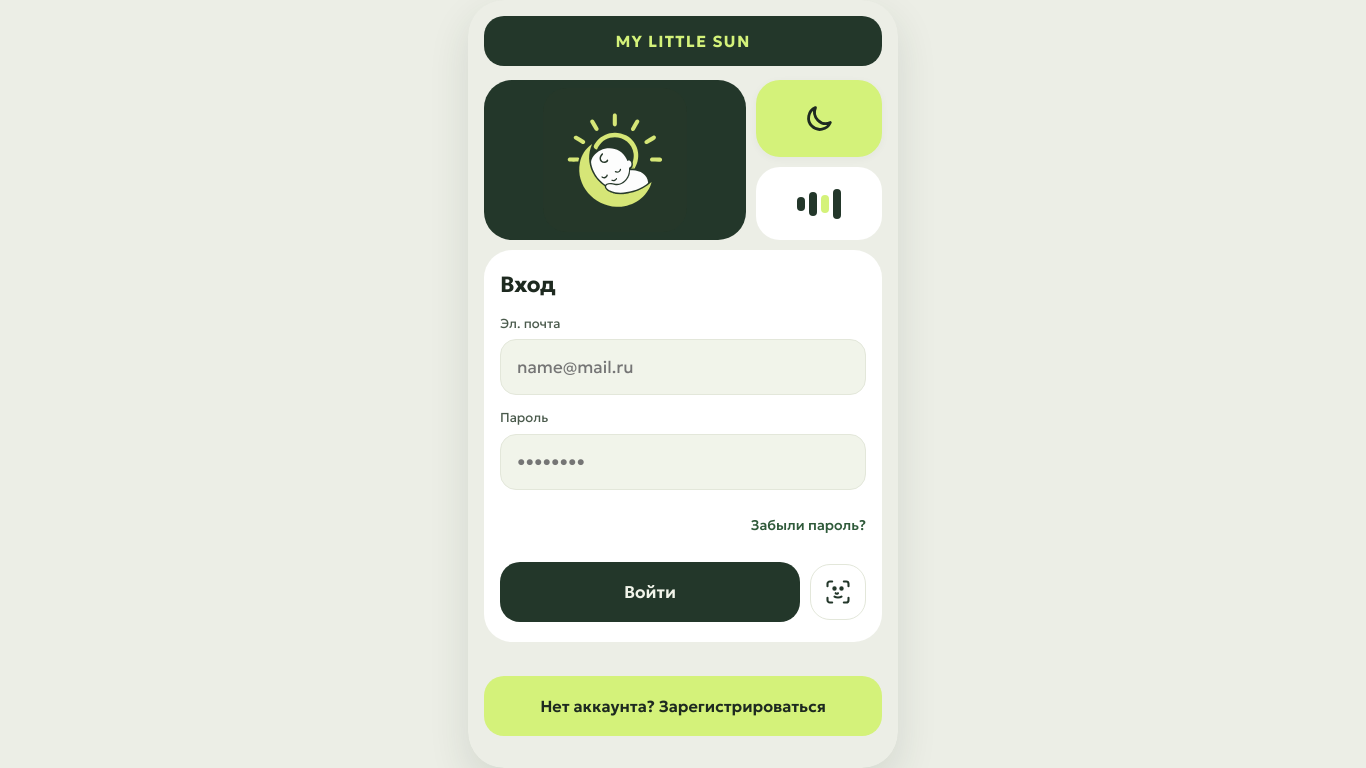
Test case: LoginPage Component › successfully resets password via modal and displays success banner
Click the link with test id "forgot-password-btn" at (808, 525), box [751, 516, 866, 534]
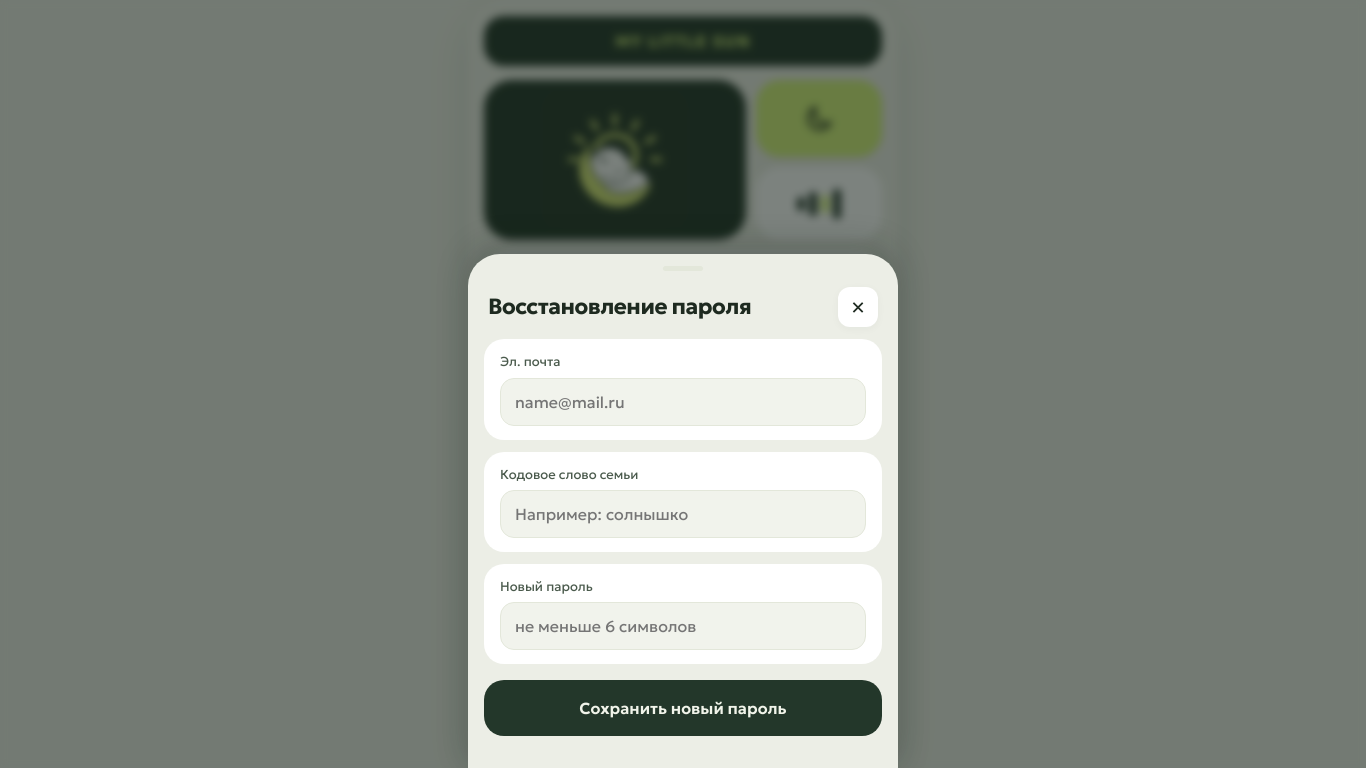
Type "mama@mail.ru" into the field with test id "reset-password-email" at (683, 402), box [500, 378, 866, 426]
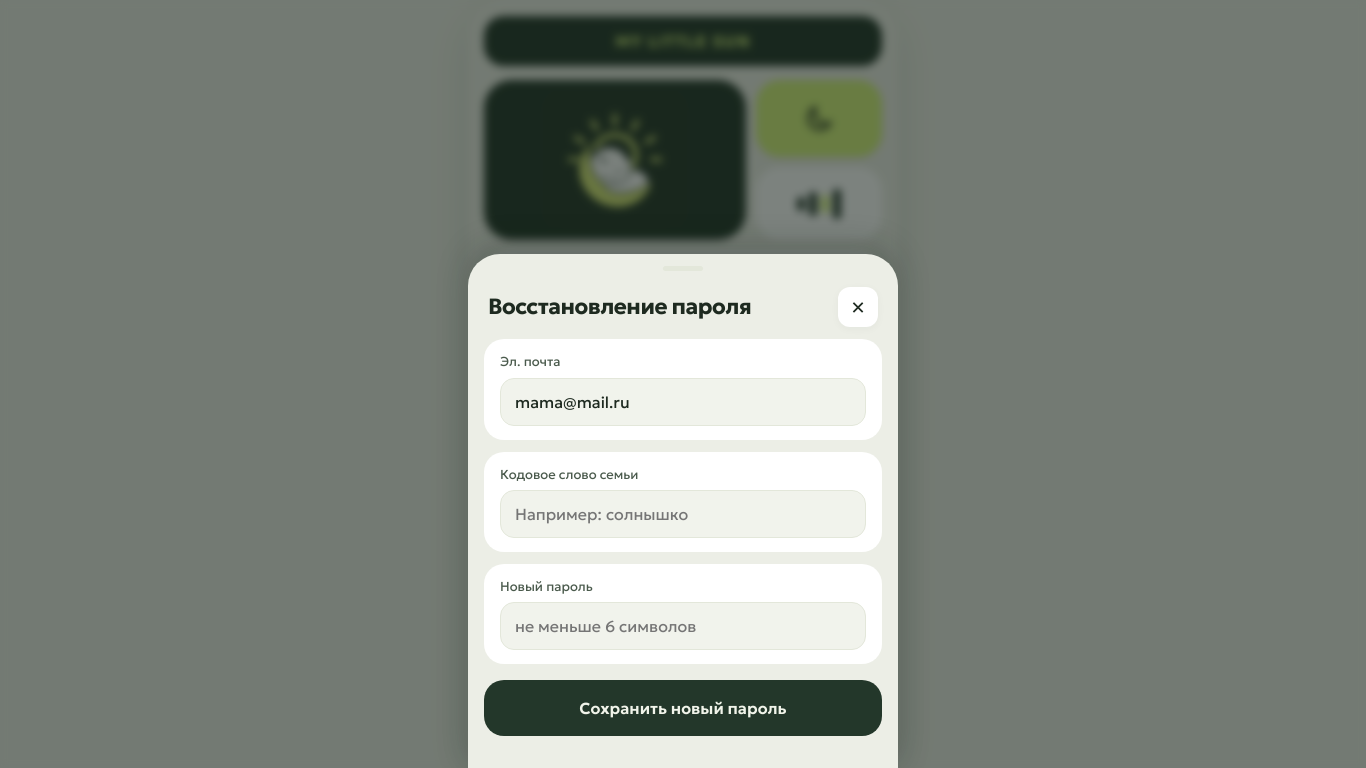
Type "солнышко" into the field with test id "reset-password-code" at (683, 514), box [500, 490, 866, 538]
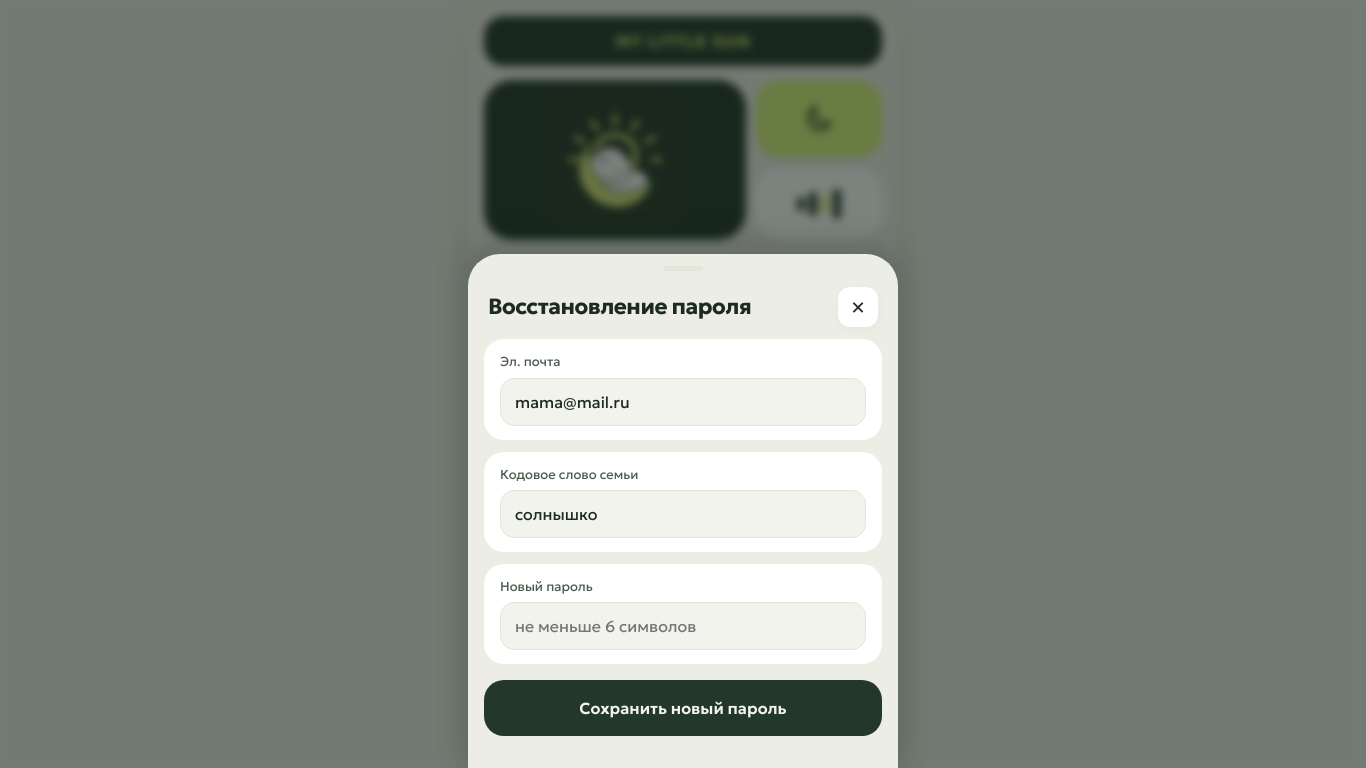
Type "newpassword123" into the password field with test id "reset-password-new-password" at (683, 626), box [500, 602, 866, 650]
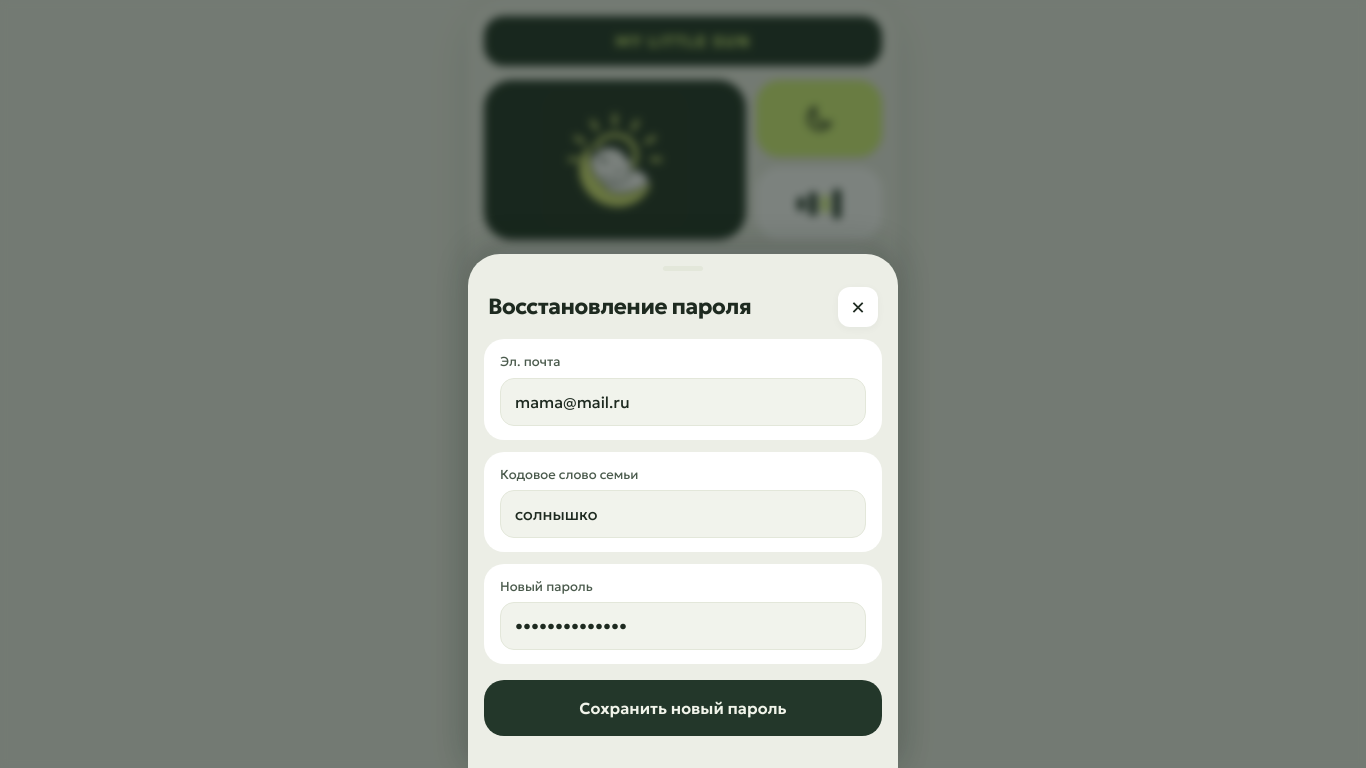
Click the button with test id "reset-password-submit-btn" at (683, 708), box [484, 680, 882, 736]
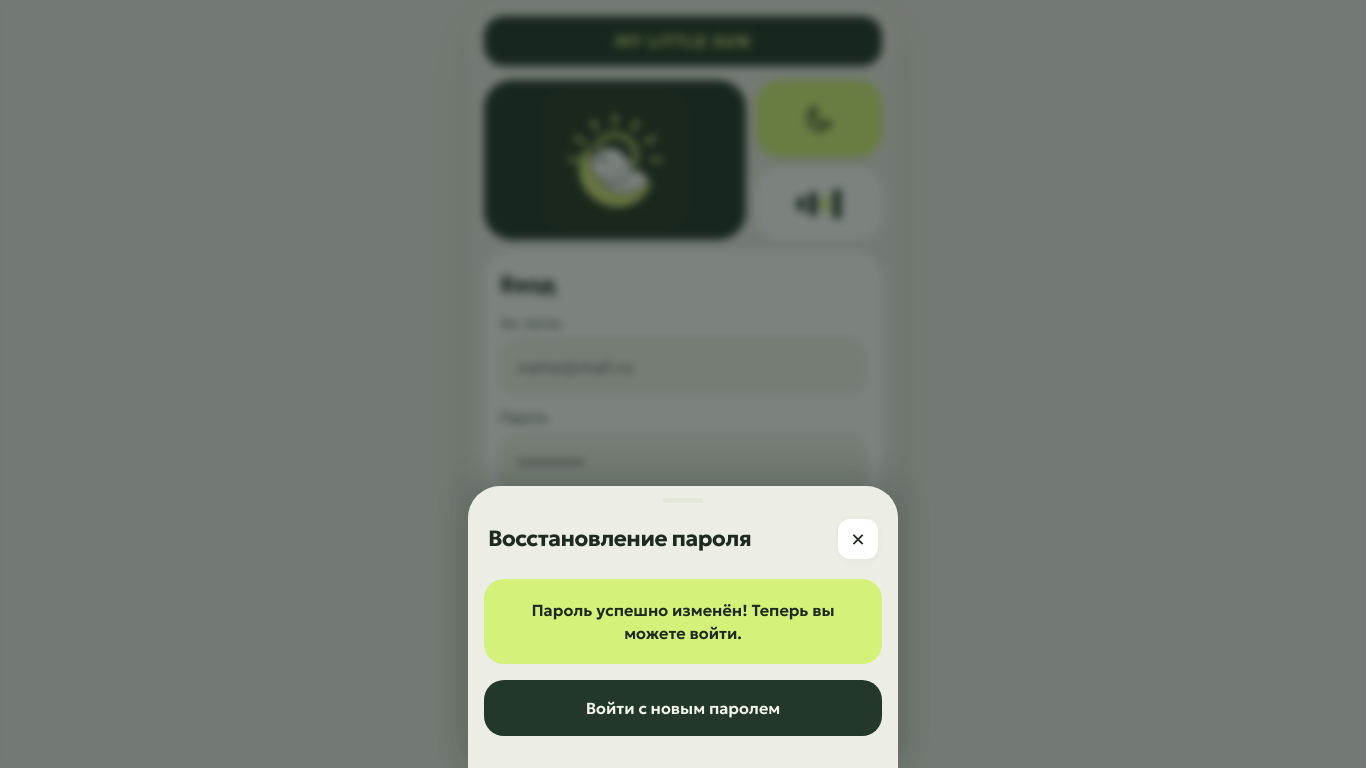
Expected: the text "Пароль успешно изменён! Теперь вы можете войти." is shown, [484, 579, 882, 664]
Click finish button in modal
Click the button with test id "reset-password-done-btn" at (683, 708), box [484, 680, 882, 736]
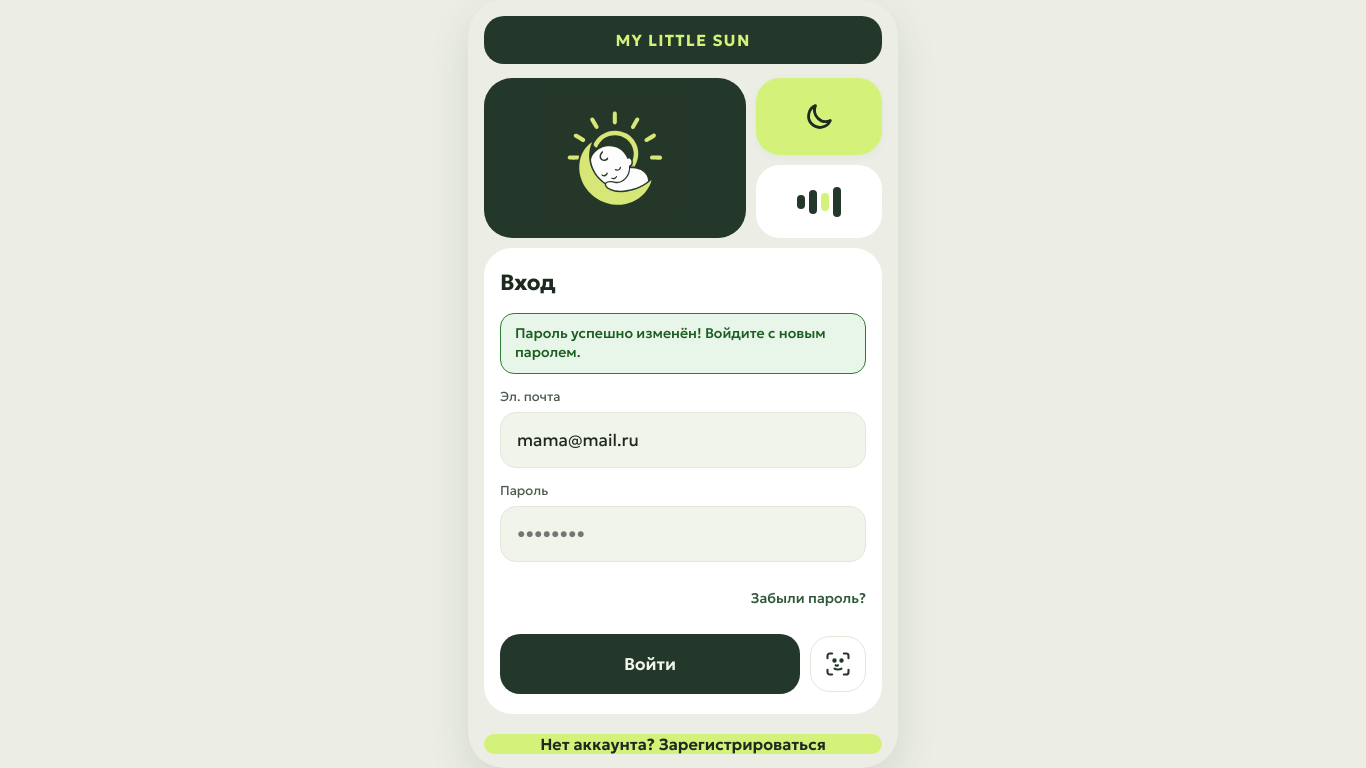
Expected: the dialog with test id "reset-password-modal" is gone
Expected: the text "Пароль успешно изменён! Войдите с новым паролем." is shown, [500, 313, 866, 374]
